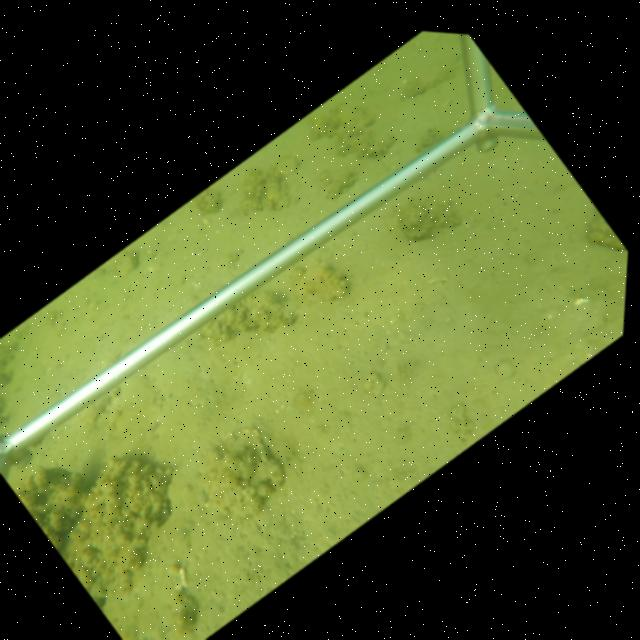Oyster-Closed: (114, 251, 138, 276), (275, 152, 300, 175)
